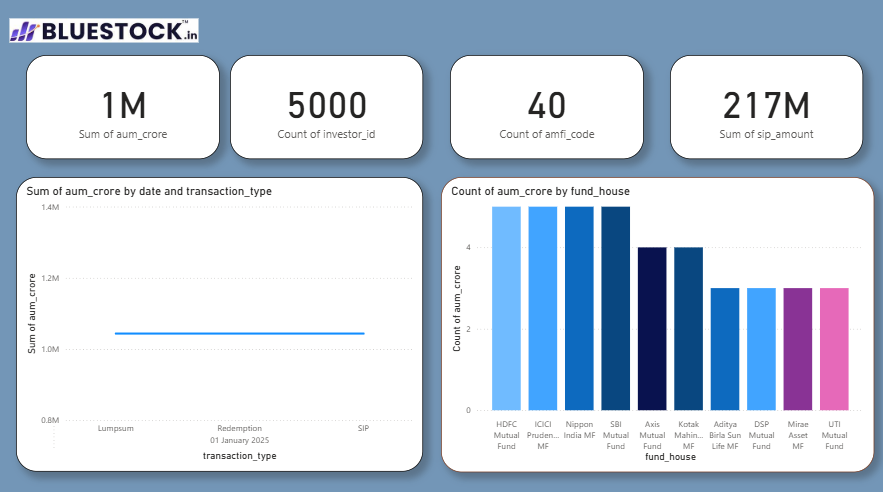

The dashboard page shown, as its layout file describes it:
{"tool":"powerbi","page":{"name":"Industry Overview","canvas":[1280,720],"ordinal":0},"visuals":[{"type":"card","fields":{"Values":["Sum(industry_aum.aum_crore)"]},"box":[39.1,84.1,281.2,150.7],"z":0},{"type":"card","fields":{"Values":["CountNonNull(clean_scheme_performance.amfi_code)"]},"box":[653.6,84.1,281.2,150.7],"z":1000},{"type":"card","fields":{"Values":["Sum(sip_inflows.sip_amount)"]},"box":[972.5,84.1,279.7,150.7],"z":2000},{"type":"card","fields":{"Values":["Count(clean_investor_transactions.investor_id)"]},"box":[334.8,84.1,279.7,150.7],"z":3000},{"type":"lineChart","fields":{"Y":["Sum(clean_scheme_performance.aum_crore)"],"Category":["industry_aum.date","clean_investor_transactions.transaction_type"]},"box":[24.8,261.5,590.5,426.7],"z":4000},{"type":"columnChart","fields":{"Category":["industry_aum.fund_house"],"Y":["CountNonNull(industry_aum.aum_crore)"]},"box":[640,261.5,627.6,428],"z":5000},{"type":"image","box":[10.1,0,284.1,97.1],"z":5001}]}

Visuals, with their boxes in screenshot pixels (x1, y1, x2, y2), scaled from the page's 1280x720 canvas onto the 883x492 screenshot:
card - Sum(industry_aum.aum_crore): left=27, top=57, right=221, bottom=160
card - CountNonNull(clean_scheme_performance.amfi_code): left=451, top=57, right=645, bottom=160
card - Sum(sip_inflows.sip_amount): left=671, top=57, right=864, bottom=160
card - Count(clean_investor_transactions.investor_id): left=231, top=57, right=424, bottom=160
lineChart - Sum(clean_scheme_performance.aum_crore) x industry_aum.date: left=17, top=179, right=424, bottom=470
columnChart - industry_aum.fund_house x CountNonNull(industry_aum.aum_crore): left=442, top=179, right=874, bottom=471
image: left=7, top=0, right=203, bottom=66
